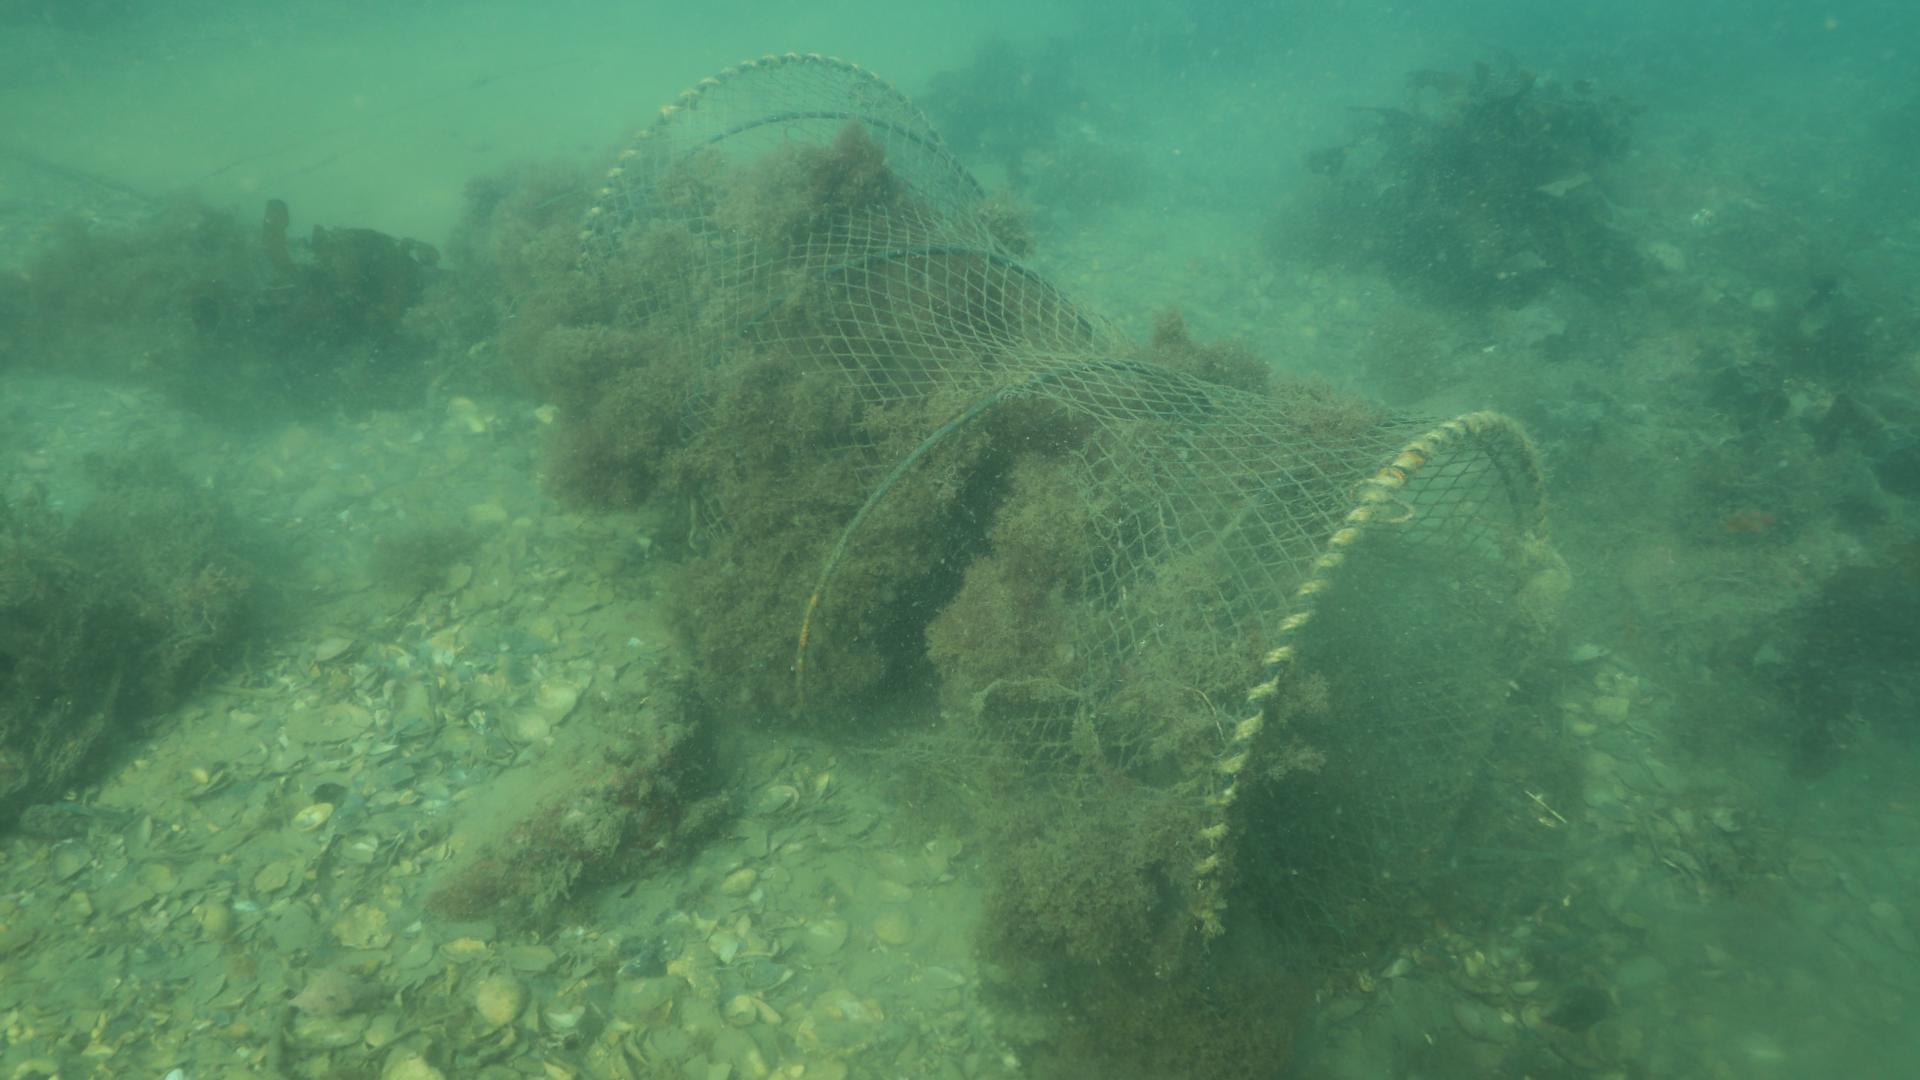spring fish trap: (570, 51, 1563, 1014)
